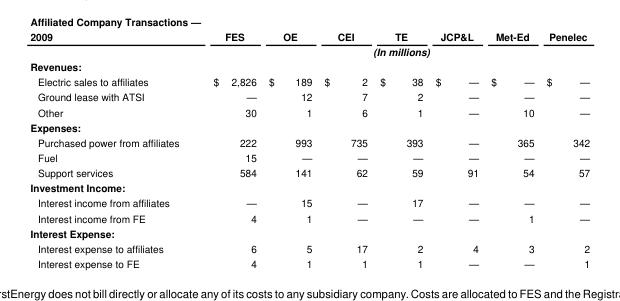table: (29, 28, 589, 270)
table column: (29, 28, 195, 270), (195, 28, 261, 270), (261, 28, 317, 270), (317, 28, 373, 270), (428, 28, 484, 270), (373, 28, 428, 270), (484, 28, 539, 270), (539, 28, 589, 270)
table column header: (29, 28, 589, 58)
table projected row header: (29, 58, 589, 73), (29, 119, 589, 134), (29, 179, 589, 194), (29, 225, 589, 240)
table row: (29, 88, 589, 104), (29, 194, 589, 210), (29, 28, 589, 43), (29, 43, 589, 58), (29, 58, 589, 73), (29, 73, 589, 88), (29, 104, 589, 119), (29, 119, 589, 134), (29, 134, 589, 149), (29, 149, 589, 164), (29, 164, 589, 179), (29, 179, 589, 194), (29, 210, 589, 225), (29, 225, 589, 240), (29, 240, 589, 255), (29, 255, 589, 270)
table spanning cell: (195, 43, 589, 58), (29, 28, 195, 58)
